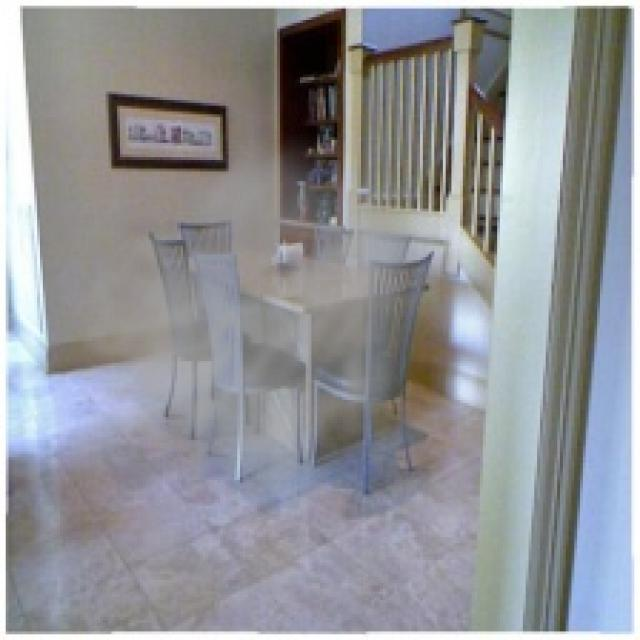smoke: (40, 123, 440, 528)
